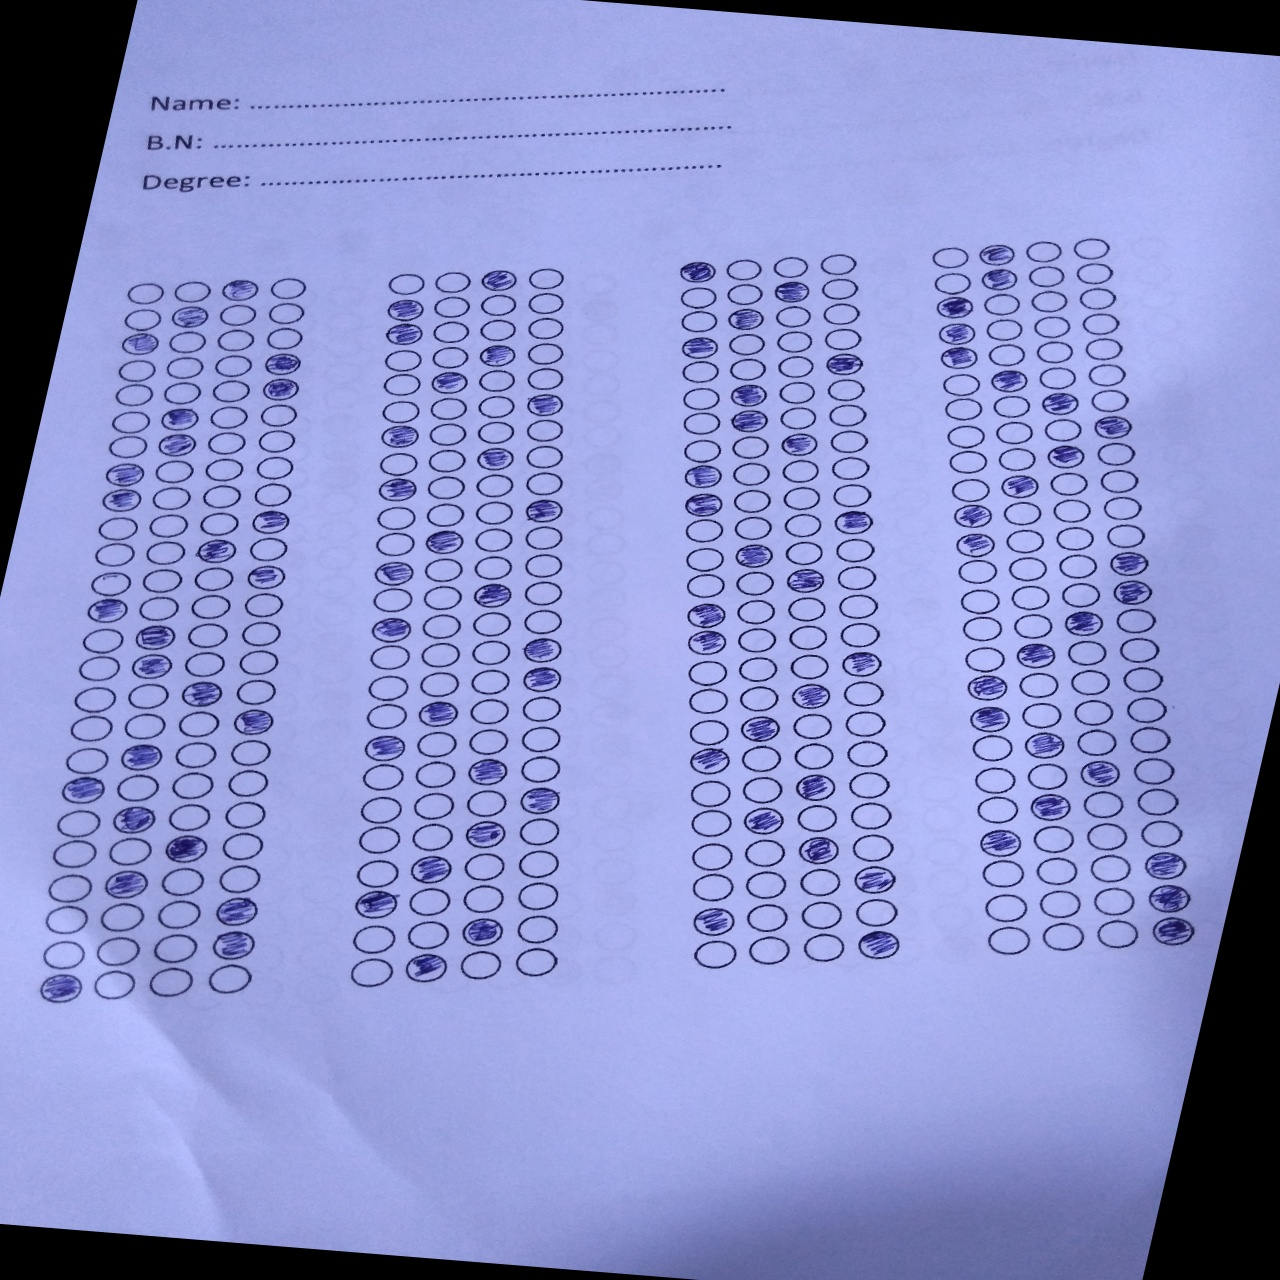not-c: (510, 944, 565, 979), (347, 920, 402, 955), (343, 954, 399, 989), (454, 948, 509, 983), (509, 913, 566, 946), (204, 961, 257, 996), (985, 922, 1035, 956), (458, 883, 512, 914), (404, 822, 458, 853), (457, 788, 511, 819), (461, 851, 515, 883), (515, 881, 568, 913), (515, 847, 568, 879), (515, 816, 568, 847), (402, 886, 456, 918), (93, 934, 144, 967), (840, 704, 890, 738), (840, 678, 890, 712), (968, 731, 1017, 765), (687, 806, 736, 840), (850, 896, 900, 928), (1089, 885, 1139, 918), (740, 837, 790, 870), (844, 768, 894, 801), (1122, 694, 1172, 727), (735, 652, 785, 685), (685, 840, 735, 873), (685, 776, 735, 809), (1021, 758, 1071, 791), (352, 824, 406, 855), (404, 791, 458, 822), (401, 919, 455, 949), (690, 937, 738, 971), (1083, 821, 1131, 855), (157, 866, 206, 899), (798, 931, 847, 964), (1032, 856, 1081, 888), (980, 891, 1029, 924), (846, 799, 896, 832), (1137, 818, 1186, 851), (789, 740, 838, 772), (787, 712, 836, 744), (840, 735, 890, 768), (1117, 634, 1166, 667), (1073, 726, 1122, 758), (1130, 754, 1179, 787), (1133, 785, 1183, 818), (972, 794, 1021, 826), (971, 763, 1020, 796), (682, 656, 731, 689), (785, 651, 835, 683), (1121, 663, 1170, 696), (742, 934, 792, 966), (795, 898, 845, 930), (797, 866, 847, 898), (1061, 638, 1111, 669), (742, 901, 792, 933), (105, 836, 154, 869), (43, 903, 91, 935), (1085, 852, 1133, 885), (1092, 918, 1141, 951), (794, 801, 842, 833), (1126, 723, 1175, 756), (738, 774, 787, 806), (683, 686, 731, 719), (1019, 699, 1067, 731), (144, 966, 193, 998), (151, 932, 200, 964), (1024, 886, 1074, 918), (979, 858, 1028, 890), (846, 831, 896, 863), (743, 867, 792, 899), (1069, 697, 1118, 729), (734, 682, 783, 714), (1065, 667, 1115, 699), (1028, 823, 1077, 855), (1077, 789, 1126, 821), (835, 619, 884, 651), (215, 864, 263, 896), (40, 938, 88, 969), (113, 771, 161, 803), (50, 837, 98, 869), (62, 745, 110, 777), (52, 806, 100, 838), (1039, 920, 1087, 952), (688, 871, 736, 903), (736, 742, 784, 774), (959, 642, 1007, 674), (832, 561, 880, 593), (89, 969, 138, 1000), (97, 901, 147, 932), (1015, 670, 1064, 701), (81, 625, 128, 656), (141, 536, 188, 567), (468, 666, 515, 697), (519, 693, 566, 724), (154, 898, 200, 930), (72, 683, 120, 714), (173, 708, 222, 738), (181, 620, 229, 651), (467, 636, 515, 667), (520, 604, 568, 634), (411, 760, 459, 790), (45, 872, 93, 903), (685, 715, 733, 745), (835, 590, 883, 620), (188, 592, 234, 622), (87, 568, 134, 599), (124, 680, 171, 710), (239, 618, 286, 648), (417, 639, 464, 669), (420, 583, 467, 613), (365, 673, 411, 703), (366, 642, 413, 673), (519, 724, 566, 755), (359, 762, 406, 792), (166, 802, 213, 832), (173, 738, 220, 769), (218, 831, 265, 862), (224, 768, 271, 798), (788, 622, 835, 653), (955, 587, 1002, 618), (832, 536, 879, 566), (181, 649, 229, 679), (467, 726, 515, 755), (468, 610, 516, 639), (358, 795, 406, 824), (517, 755, 564, 784), (75, 653, 122, 682), (122, 712, 169, 741), (134, 593, 181, 622), (139, 566, 186, 595), (236, 648, 282, 678), (68, 713, 115, 742), (465, 696, 512, 726), (413, 729, 459, 758), (415, 669, 462, 699), (418, 610, 465, 639), (420, 554, 467, 584), (362, 701, 409, 730), (225, 738, 272, 768), (354, 859, 401, 888), (954, 559, 1001, 588), (731, 597, 778, 626), (828, 454, 874, 483), (1073, 258, 1119, 287), (941, 421, 988, 450), (1090, 440, 1137, 469), (263, 324, 307, 354), (165, 327, 210, 358), (234, 678, 282, 706), (779, 538, 828, 566), (215, 299, 260, 328), (222, 799, 267, 829), (784, 593, 830, 622), (727, 433, 772, 462), (682, 571, 728, 600), (734, 625, 779, 654), (1075, 284, 1121, 313), (937, 369, 982, 399), (826, 427, 872, 456), (992, 444, 1037, 474), (990, 418, 1036, 448), (170, 771, 217, 799), (781, 509, 828, 537), (767, 253, 813, 281), (1051, 525, 1098, 553), (1102, 522, 1149, 550), (1053, 553, 1099, 581), (726, 459, 772, 488), (679, 436, 726, 464), (679, 517, 726, 545), (982, 315, 1029, 343), (983, 341, 1030, 369), (1085, 361, 1132, 389), (431, 267, 476, 297), (115, 356, 159, 386), (93, 538, 137, 567), (1010, 611, 1056, 639), (1008, 584, 1054, 612), (1005, 556, 1050, 584), (731, 568, 777, 597), (778, 485, 824, 513), (779, 459, 825, 488), (830, 481, 876, 509), (1112, 608, 1158, 636), (946, 449, 992, 477), (947, 477, 993, 505), (730, 486, 776, 515), (730, 513, 776, 542), (1081, 334, 1126, 362), (928, 268, 974, 297), (939, 395, 985, 423), (1097, 467, 1143, 495), (996, 501, 1042, 529), (979, 291, 1024, 319), (1088, 388, 1133, 416), (266, 273, 309, 302), (123, 278, 166, 307), (171, 277, 215, 306), (1099, 493, 1146, 520), (1033, 338, 1080, 365), (1026, 290, 1073, 316), (120, 302, 164, 331), (520, 578, 565, 606), (960, 615, 1005, 644), (681, 544, 726, 572), (1078, 309, 1123, 338), (927, 241, 972, 270), (1051, 497, 1096, 525), (990, 392, 1035, 420), (1003, 527, 1049, 554), (1046, 471, 1091, 498), (816, 250, 862, 277), (1022, 263, 1068, 290), (1035, 365, 1081, 392), (379, 397, 422, 425), (522, 442, 565, 470), (524, 469, 567, 497), (372, 585, 415, 613), (241, 592, 286, 619), (1057, 583, 1102, 610), (384, 268, 427, 297), (215, 325, 257, 353), (110, 408, 152, 436), (152, 457, 195, 485), (424, 472, 467, 501), (207, 403, 250, 431), (254, 452, 297, 481), (97, 513, 139, 542), (474, 554, 516, 583), (1030, 313, 1076, 339), (429, 318, 472, 345), (475, 316, 518, 343), (474, 418, 517, 445), (524, 316, 567, 343), (108, 433, 151, 459), (161, 380, 204, 407), (148, 512, 191, 539), (198, 511, 241, 538), (248, 535, 292, 561), (375, 504, 418, 531), (192, 564, 236, 591), (775, 379, 818, 406), (824, 376, 867, 403), (776, 406, 819, 433), (679, 384, 722, 411), (678, 358, 721, 384), (678, 282, 721, 309), (474, 472, 515, 501), (427, 394, 469, 421), (429, 293, 471, 320), (383, 372, 425, 399), (380, 347, 422, 374), (209, 377, 251, 404), (213, 350, 256, 377), (428, 343, 470, 370), (478, 292, 520, 319), (475, 368, 517, 395), (476, 394, 518, 421), (523, 416, 565, 443), (523, 365, 565, 392), (526, 291, 568, 318), (524, 264, 566, 291), (151, 483, 193, 510), (164, 354, 206, 381), (200, 482, 243, 509), (203, 455, 245, 482), (205, 429, 247, 456), (251, 481, 293, 508), (425, 448, 468, 475), (425, 422, 468, 449), (376, 451, 418, 478), (522, 552, 564, 579), (523, 525, 565, 552), (375, 529, 417, 556), (1071, 234, 1114, 261), (771, 304, 813, 331), (819, 301, 862, 328), (726, 331, 768, 358), (680, 410, 722, 437), (424, 502, 467, 529), (1042, 418, 1088, 443), (772, 353, 816, 379), (825, 402, 869, 428), (721, 257, 764, 282), (256, 401, 297, 428), (113, 382, 154, 409), (256, 427, 297, 454), (474, 526, 515, 553), (264, 301, 306, 327), (821, 325, 863, 350), (772, 328, 816, 353), (726, 356, 769, 381), (721, 280, 764, 305), (673, 309, 716, 334), (525, 341, 566, 367), (474, 501, 515, 526), (1024, 237, 1065, 263), (818, 278, 860, 302)
taken-c: (35, 971, 86, 1005), (401, 951, 452, 983), (101, 869, 152, 901), (213, 894, 263, 928), (1143, 881, 1192, 915), (962, 670, 1012, 704), (1108, 576, 1157, 610), (973, 826, 1023, 859), (965, 701, 1015, 734), (738, 804, 789, 837), (949, 527, 1000, 560), (728, 540, 778, 573), (679, 598, 729, 631), (57, 775, 109, 806), (207, 930, 257, 962), (1148, 915, 1197, 948), (688, 905, 737, 938), (1012, 638, 1061, 670), (683, 745, 733, 778), (737, 713, 787, 745), (779, 564, 829, 597), (681, 628, 730, 661), (836, 646, 885, 679), (829, 505, 878, 538), (159, 833, 210, 865), (1026, 790, 1076, 822), (787, 679, 835, 712), (855, 928, 904, 960), (791, 770, 840, 802), (794, 833, 840, 866), (108, 805, 158, 836), (353, 888, 401, 920), (851, 864, 899, 896), (1076, 760, 1124, 791), (1021, 731, 1070, 762), (1142, 850, 1189, 880), (457, 917, 505, 946), (244, 561, 290, 592), (409, 855, 455, 885), (362, 733, 408, 763), (463, 819, 510, 849), (414, 699, 461, 728), (370, 558, 415, 588), (523, 495, 567, 525), (130, 651, 175, 681), (231, 706, 277, 735), (120, 742, 165, 771), (465, 757, 511, 787), (1107, 549, 1150, 579), (517, 787, 564, 815), (157, 403, 202, 433), (193, 536, 238, 565), (422, 527, 467, 557), (427, 368, 471, 397), (102, 459, 147, 489), (132, 622, 177, 652), (1061, 608, 1105, 638), (478, 267, 523, 297), (166, 302, 212, 331), (986, 367, 1032, 395), (384, 294, 428, 324), (375, 476, 418, 505), (474, 445, 517, 475), (476, 340, 519, 369), (520, 635, 565, 663), (118, 329, 163, 358), (522, 389, 566, 417), (377, 422, 422, 450), (98, 486, 143, 515), (154, 431, 198, 459), (381, 318, 425, 346), (218, 275, 261, 304), (260, 374, 304, 402), (471, 583, 515, 611), (248, 508, 292, 536), (179, 679, 223, 707), (86, 595, 129, 624), (1039, 389, 1082, 417), (260, 348, 302, 376), (369, 617, 413, 644), (822, 350, 865, 377), (726, 408, 769, 435), (998, 474, 1041, 501), (1089, 415, 1132, 442), (974, 241, 1017, 268), (937, 343, 980, 370), (951, 503, 995, 529), (679, 463, 723, 489), (933, 294, 978, 320), (726, 381, 768, 408), (676, 258, 719, 285), (682, 492, 726, 518), (779, 433, 823, 458), (1043, 444, 1087, 470), (770, 280, 813, 306), (726, 306, 768, 332), (935, 320, 978, 346), (978, 267, 1020, 293), (678, 335, 721, 360)
